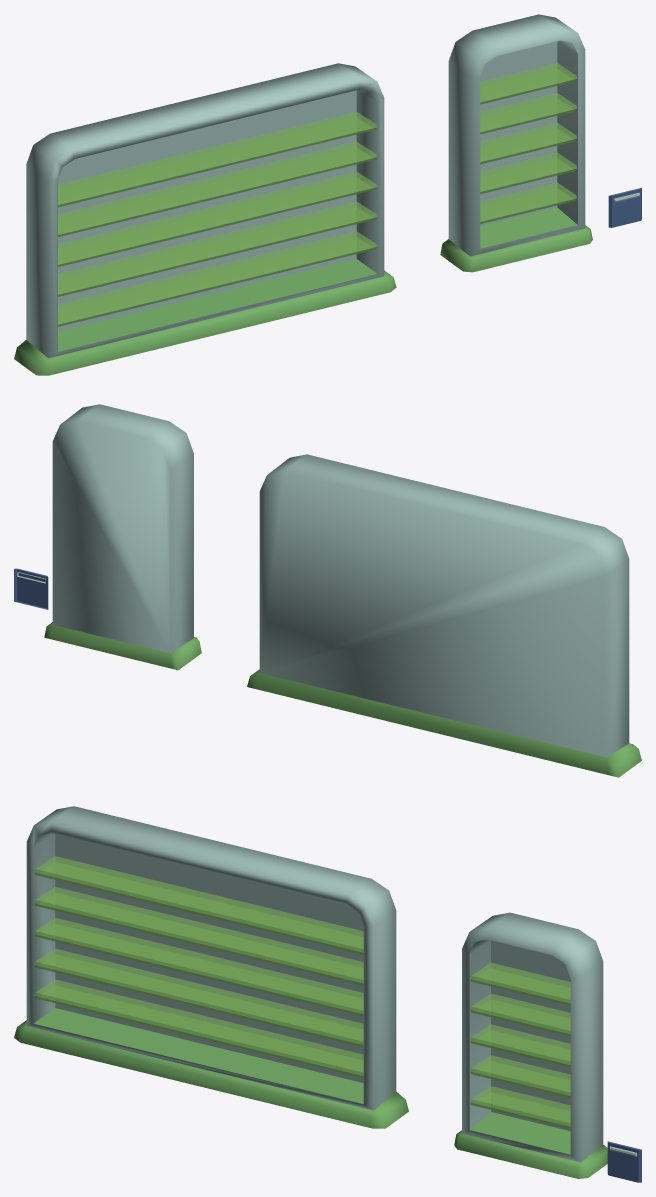
File: futuristic_bookshelves.fbx
The picture shows the model from 3 angles, top to bottom: view 1: azimuth 30°, elevation 25°; view 2: azimuth 150°, elevation 25°; view 3: azimuth 330°, elevation 25°; orthographic projection. The views are drawn at different scales.
Parts seen in each view (by area): view 1: Cube, Cube.004, Cube.001, Cube.002, Cube.003; view 2: Cube, Cube.001, Cube.003; view 3: Cube, Cube.004, Cube.001, Cube.002, Cube.003.
Boxes of the visible parts, left/top/right/bottom form: Cube: left=14, top=63, right=396, bottom=375; Cube.004: left=58, top=111, right=376, bottom=326; Cube.001: left=440, top=14, right=592, bottom=272; Cube.002: left=480, top=63, right=576, bottom=223; Cube.003: left=608, top=187, right=641, bottom=227; Cube: left=247, top=454, right=641, bottom=777; Cube.001: left=44, top=404, right=201, bottom=670; Cube.003: left=14, top=568, right=48, bottom=609; Cube: left=14, top=806, right=408, bottom=1128; Cube.004: left=34, top=856, right=363, bottom=1078; Cube.001: left=454, top=912, right=607, bottom=1178; Cube.002: left=470, top=963, right=570, bottom=1128; Cube.003: left=607, top=1141, right=641, bottom=1182.
Bounding box in the file's own units: 11.13 × 3.82 × 0.8283.
